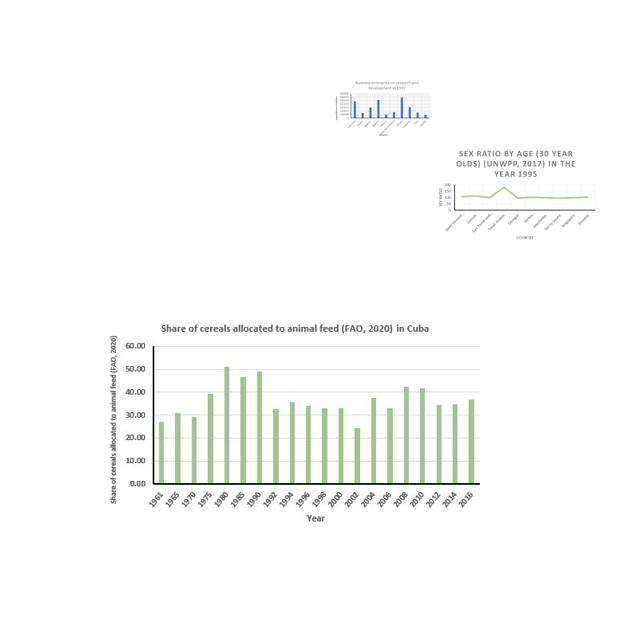Graph: (104, 315, 487, 527), (434, 147, 598, 241), (334, 78, 431, 141)
